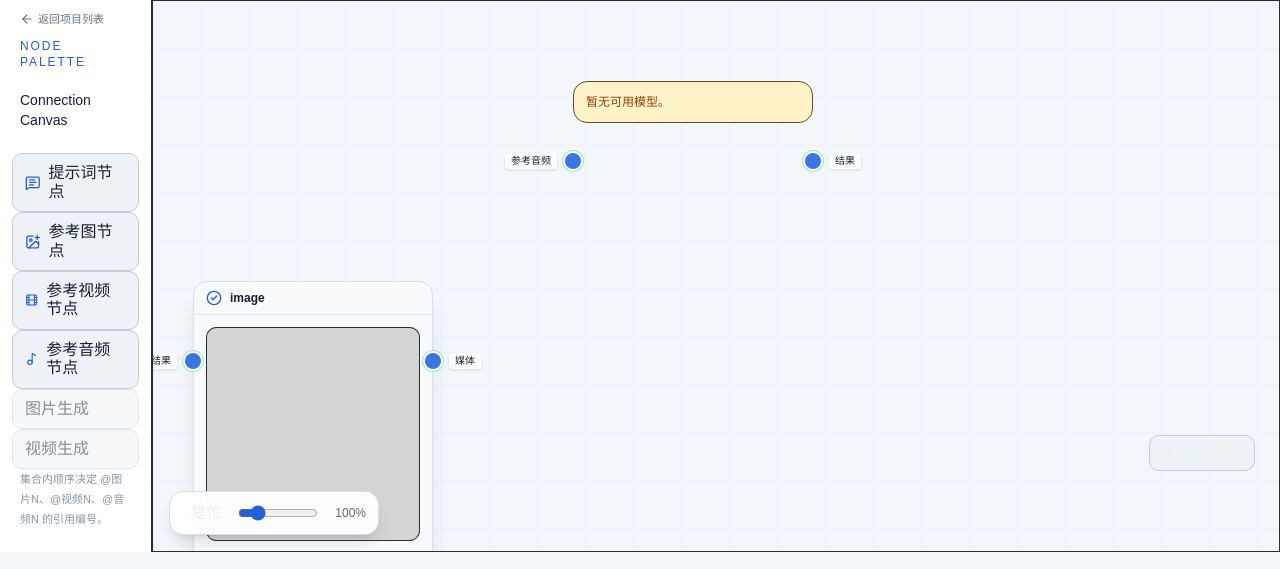
canvas named-port interactions › announces an incompatible pointer drop and keeps the source active for another target
Press the mouse on the button with aria-label "image：媒体输出端口" at (433, 361), box [423,351,443,371]
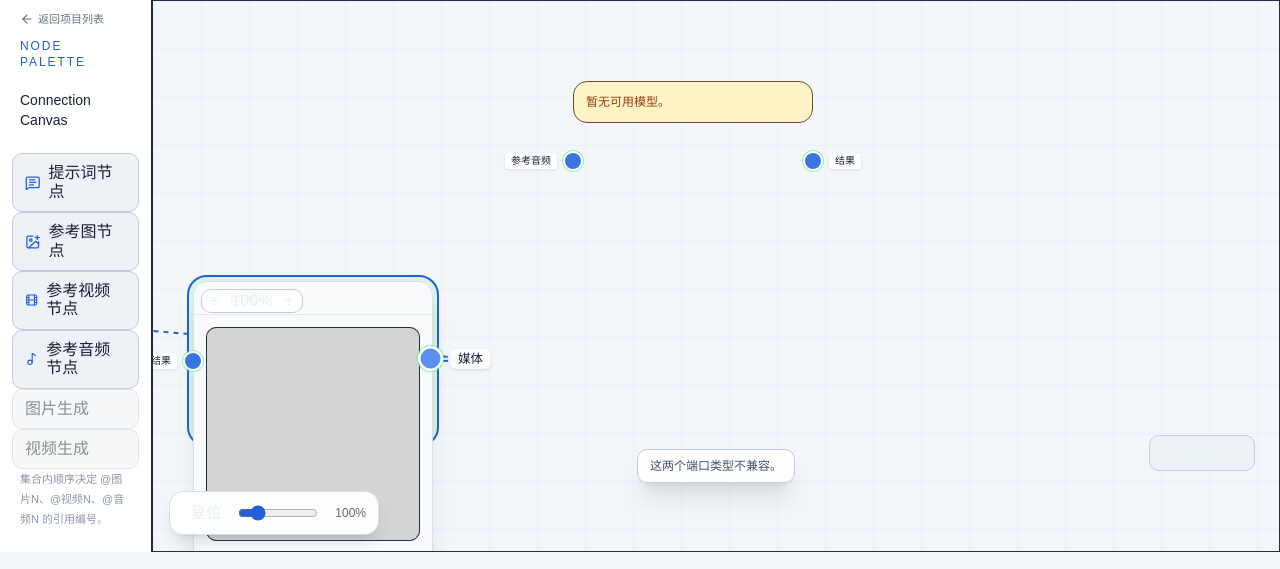
Check: the message with test id "connection-status" reads "这两个端口类型不兼容。", box [650,459,782,473]
Press the mouse on the element with test id "infinite-canvas" at (716, 276), box [153,1,1279,551]
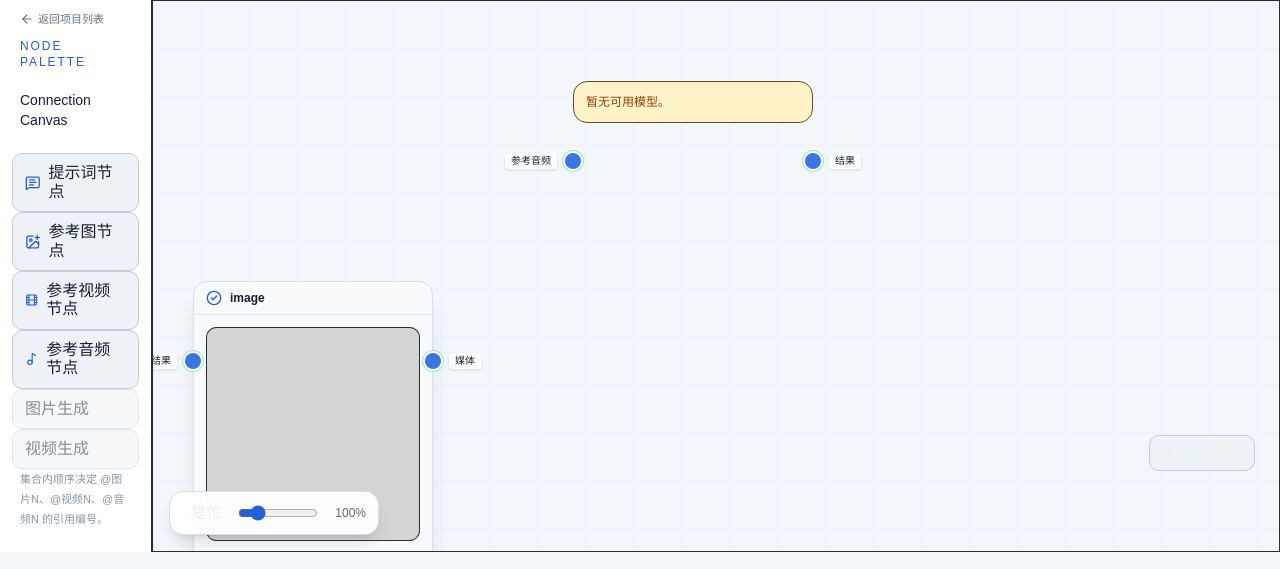
Check: the message with test id "connection-status" is gone
